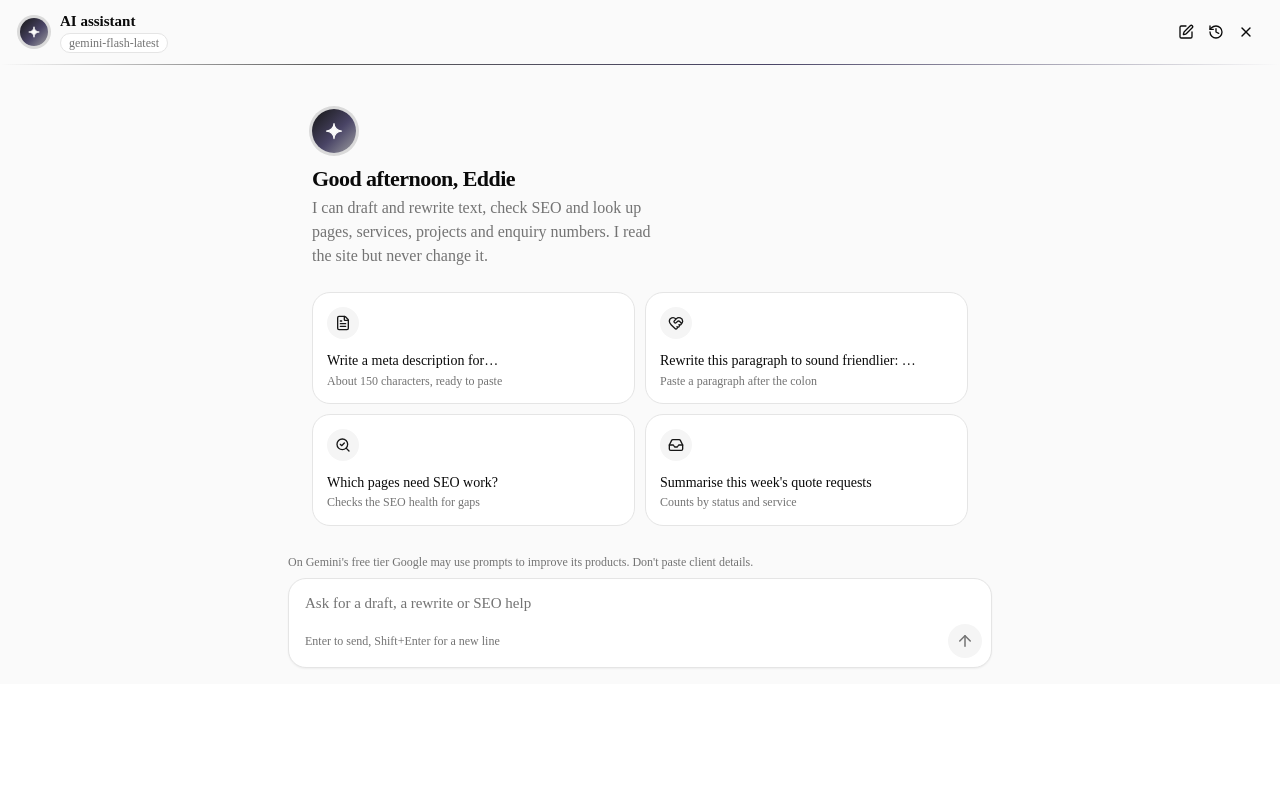
Test: AssistantPanel › offers four starter prompts that fill the composer
Click the button "Which pages need SEO work?": x=343, y=445 [312,414,635,526]
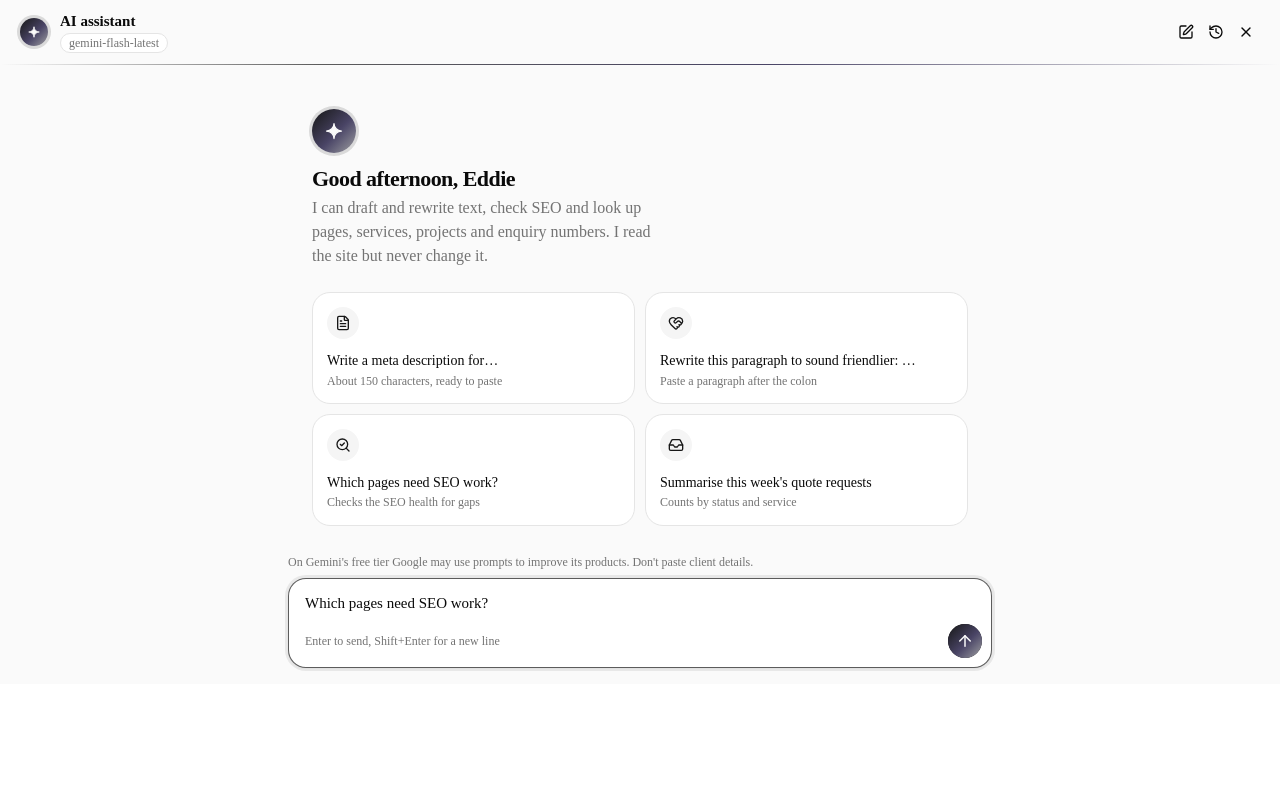
Check: the text box named "Message the AI assistant" holds "Which pages need SEO work?", box [289,579,991,623]
